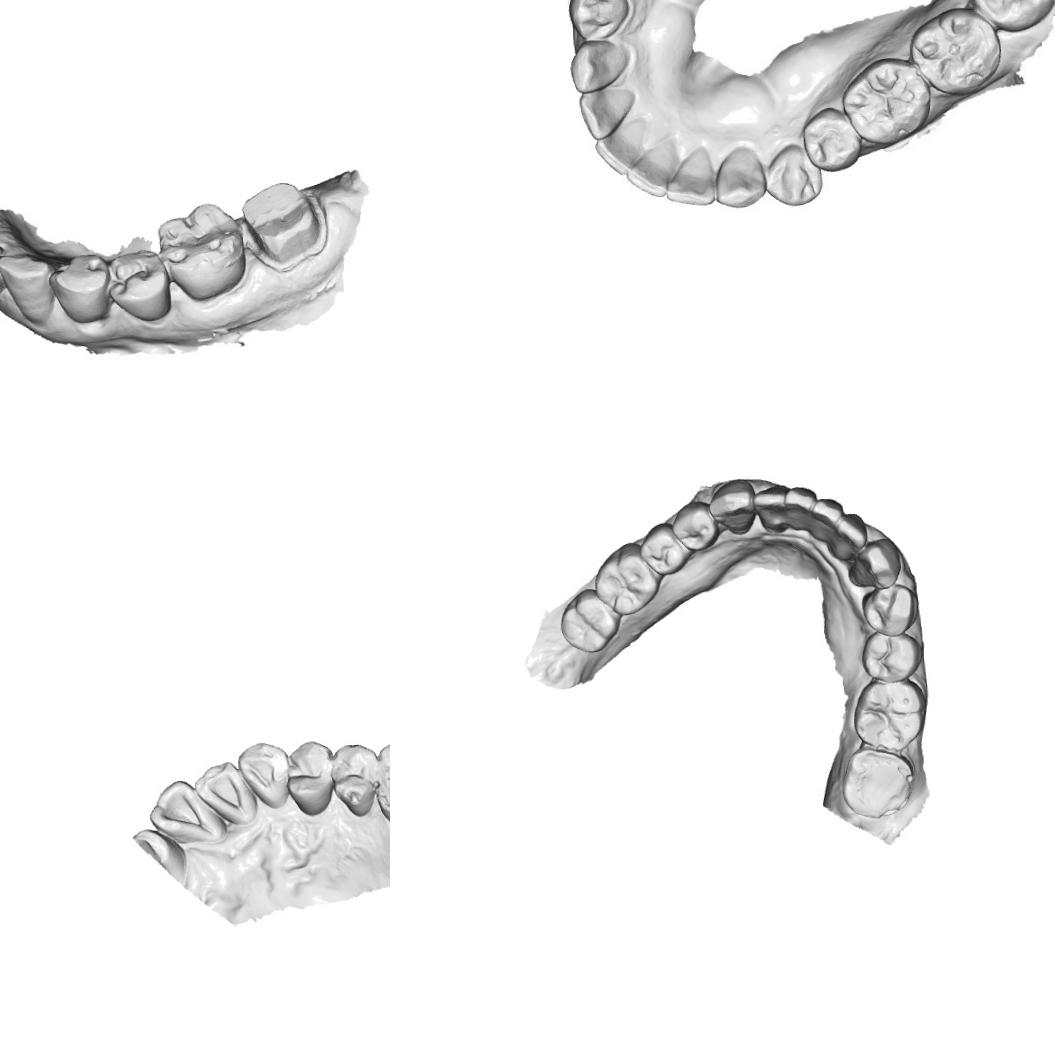canine: (236, 740, 294, 812), (0, 250, 54, 325), (571, 38, 636, 90), (714, 142, 764, 207), (706, 477, 759, 537), (848, 536, 904, 591)
crown: (238, 181, 334, 266)
incisor: (146, 776, 229, 846), (190, 759, 258, 828), (592, 120, 652, 174), (663, 151, 716, 210), (626, 138, 678, 194), (581, 88, 632, 137), (752, 480, 790, 536), (782, 484, 818, 534), (831, 510, 868, 556), (812, 495, 846, 541)
molar: (155, 198, 252, 303), (838, 61, 928, 144), (912, 7, 1003, 88), (850, 674, 931, 754), (839, 746, 918, 821), (591, 540, 662, 618), (558, 587, 622, 655), (963, 0, 1052, 24), (373, 741, 390, 836)
premolar: (106, 244, 171, 322), (51, 252, 112, 326), (284, 739, 336, 819), (328, 742, 381, 820), (859, 628, 926, 684), (860, 582, 921, 640), (802, 108, 856, 168), (638, 520, 692, 577), (769, 148, 822, 202), (670, 499, 721, 552), (568, 0, 629, 39)
